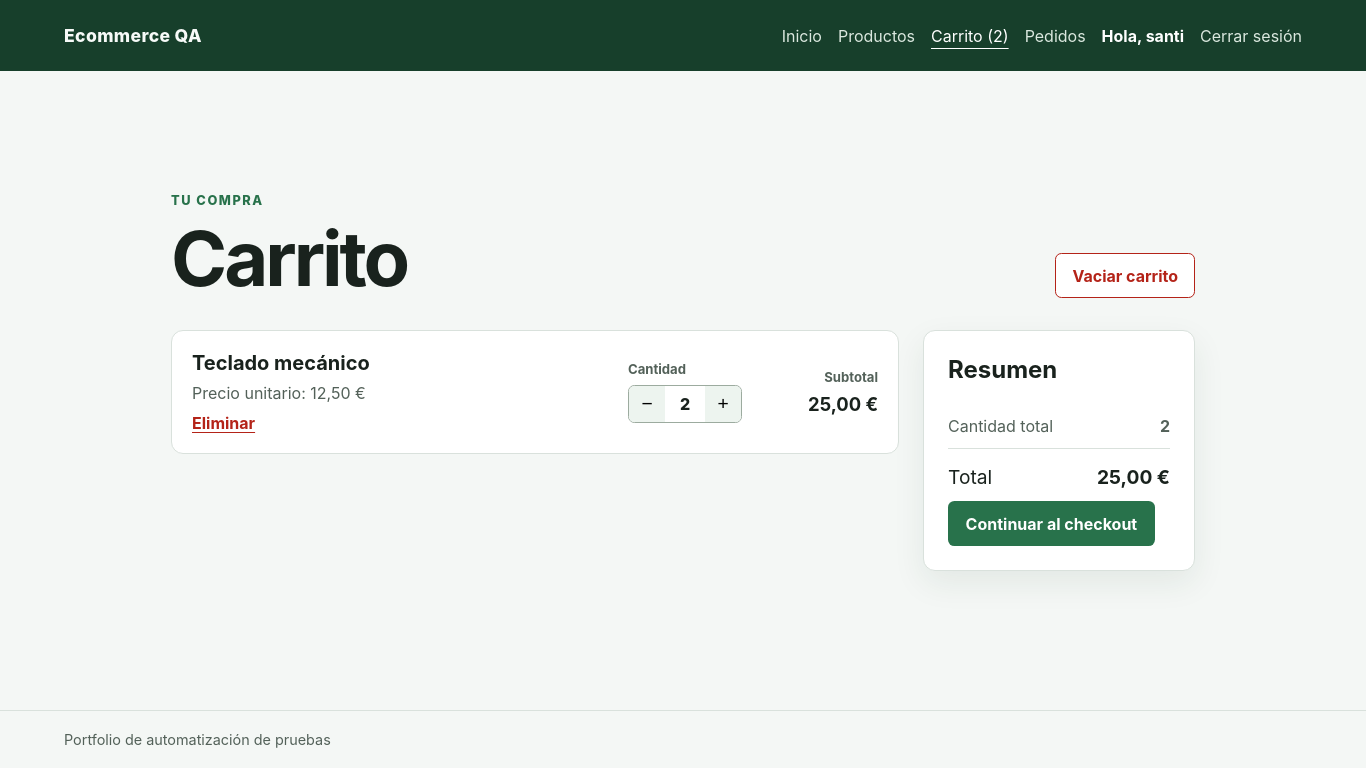
Test case: carrito › vacía el carrito después de confirmar
Step 1. Click the button "Vaciar carrito" → x=1125, y=276, box [1055,253,1195,298]
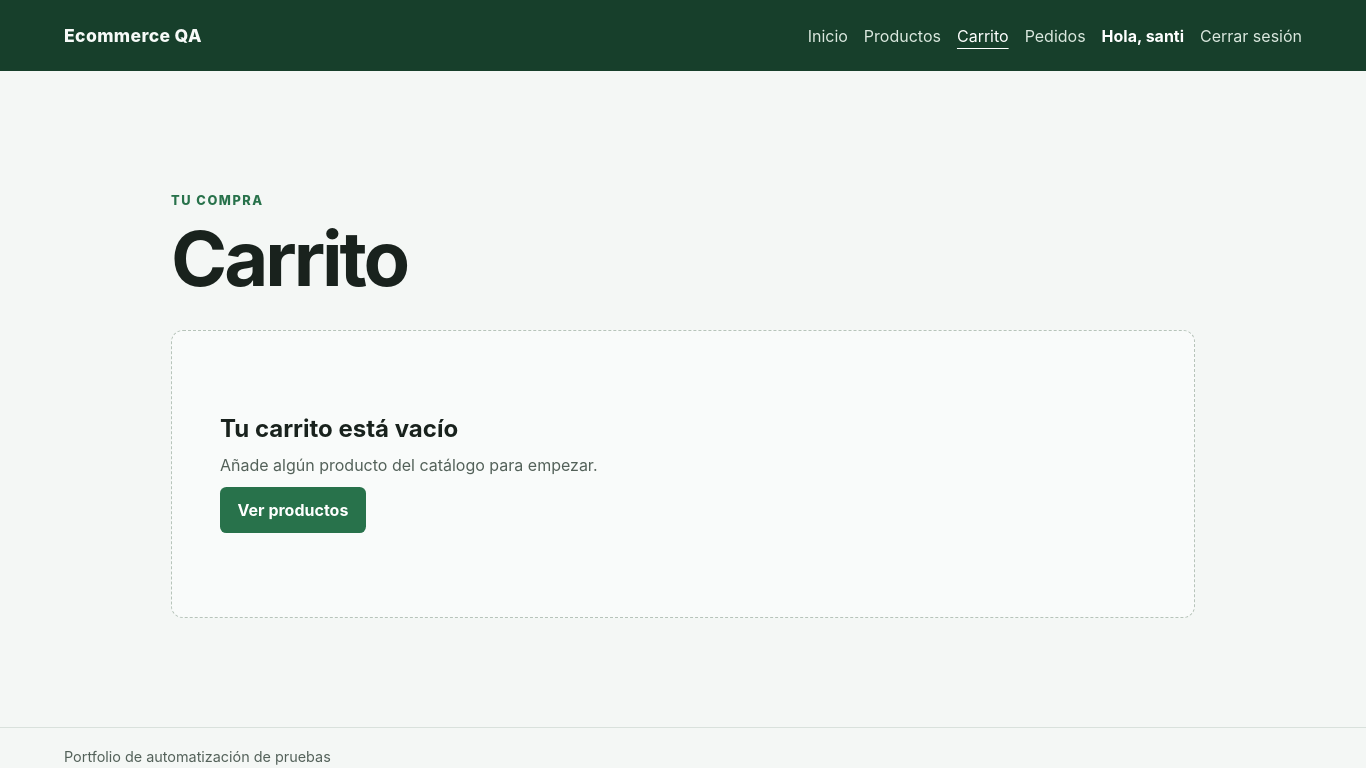
Now the heading "Tu carrito está vacío" is shown, box [220,414,458,444]
